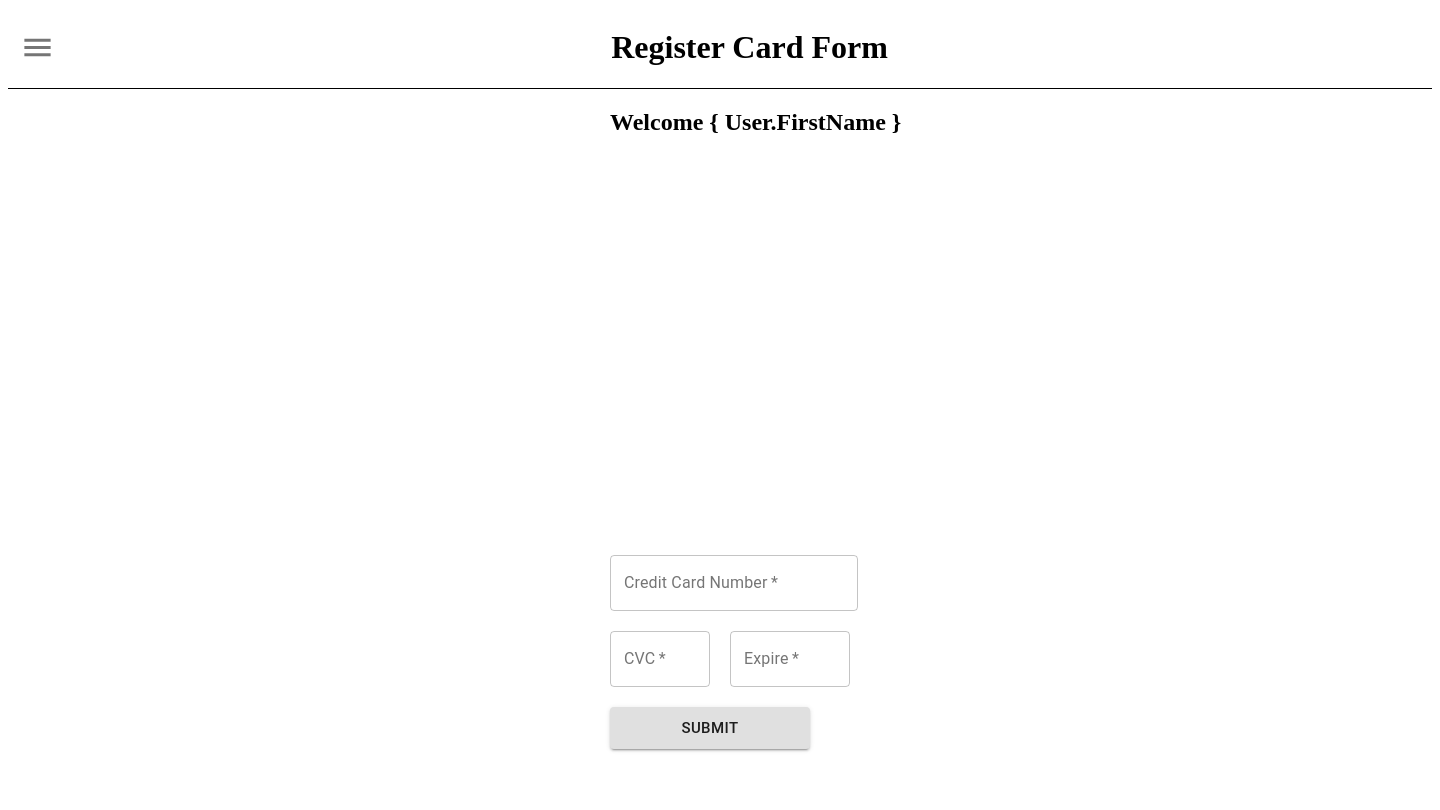
Test: test cvc input
Type "123456789" into the field with test id "CVC" at (660, 659), box [610,631,710,687]
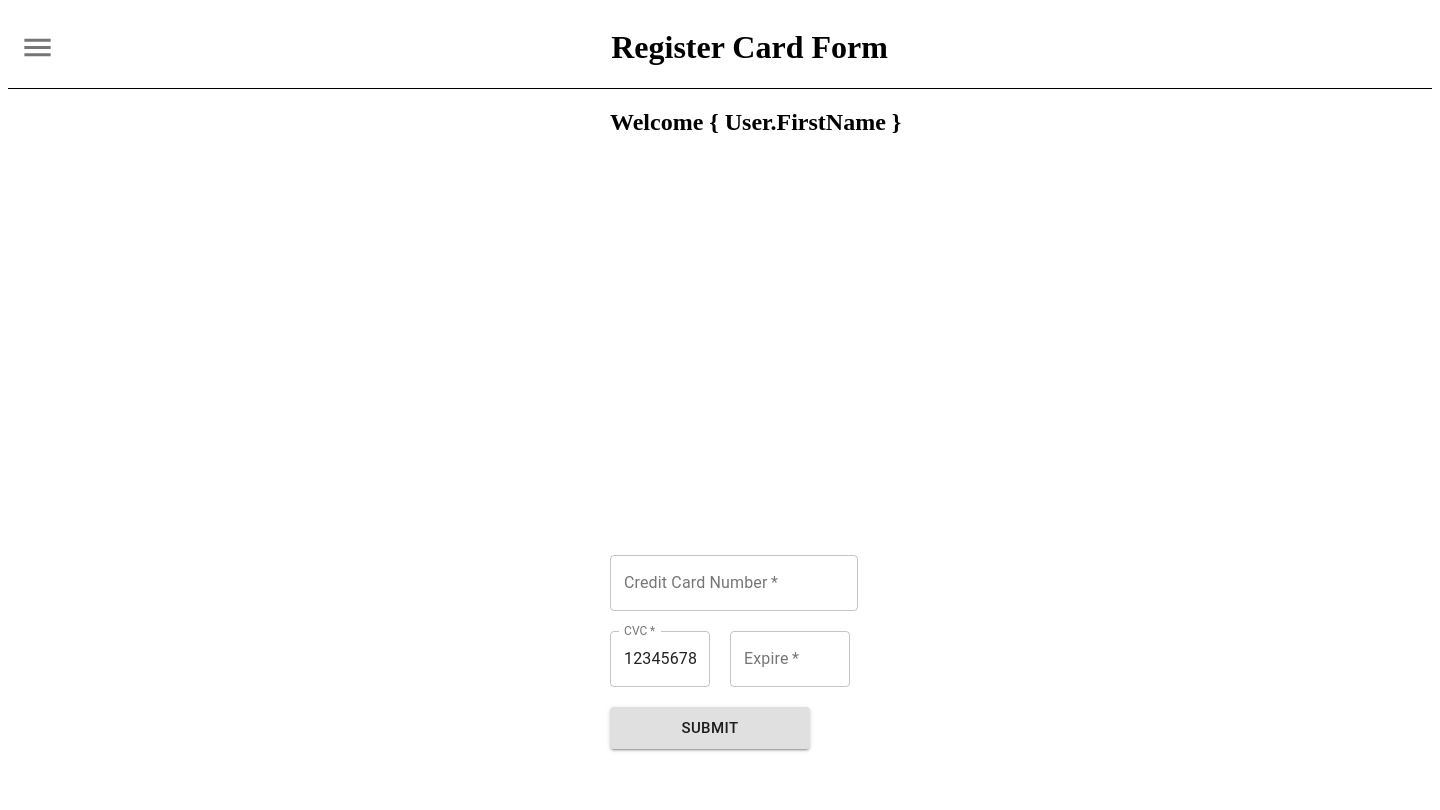
Expected: the text "This field should be a number" is not shown
Replace the text in the field with test id "CVC" with "CreditCardNumber" at (660, 659), box [610,631,710,687]
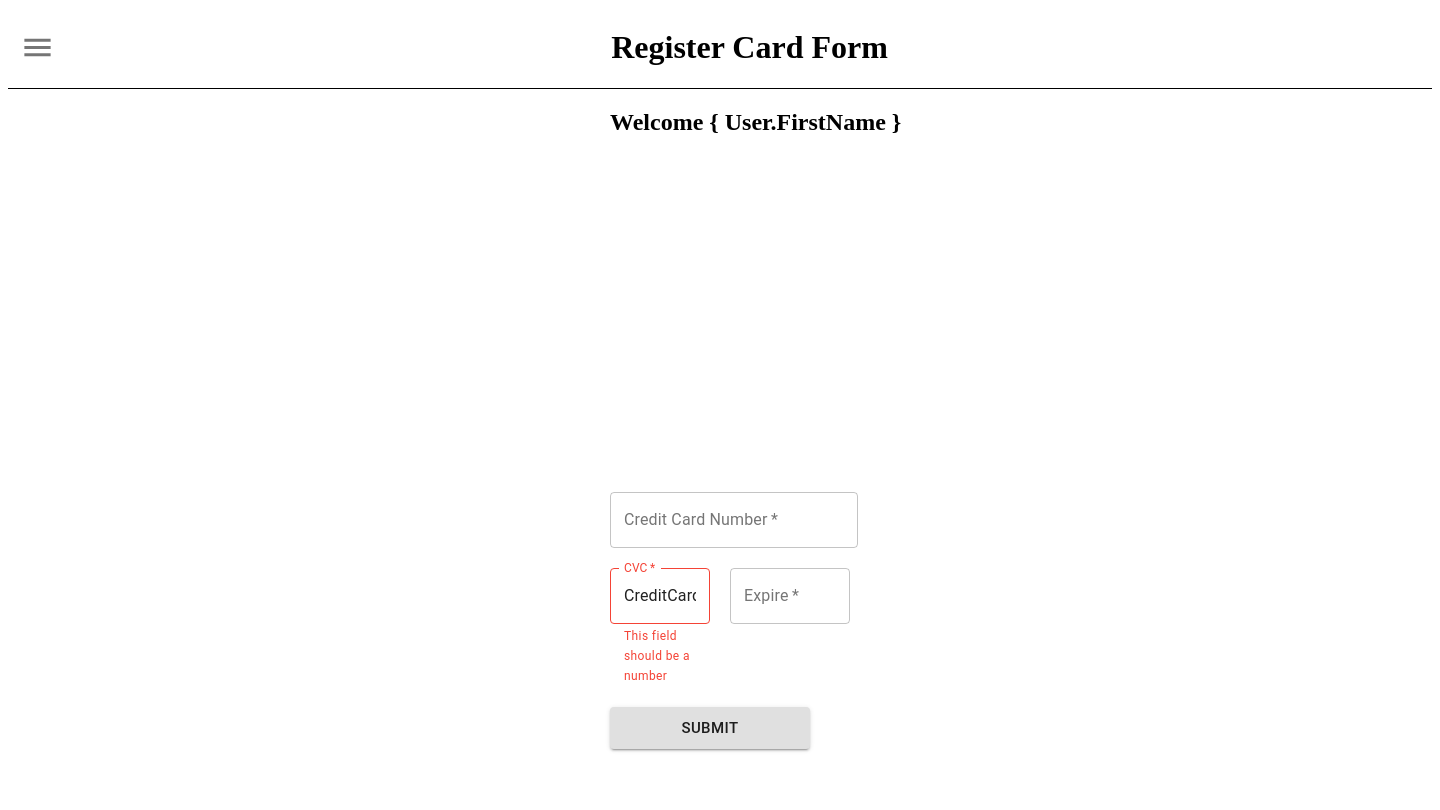
Expected: the text "This field should be a number" is shown, [624,627,696,687]
